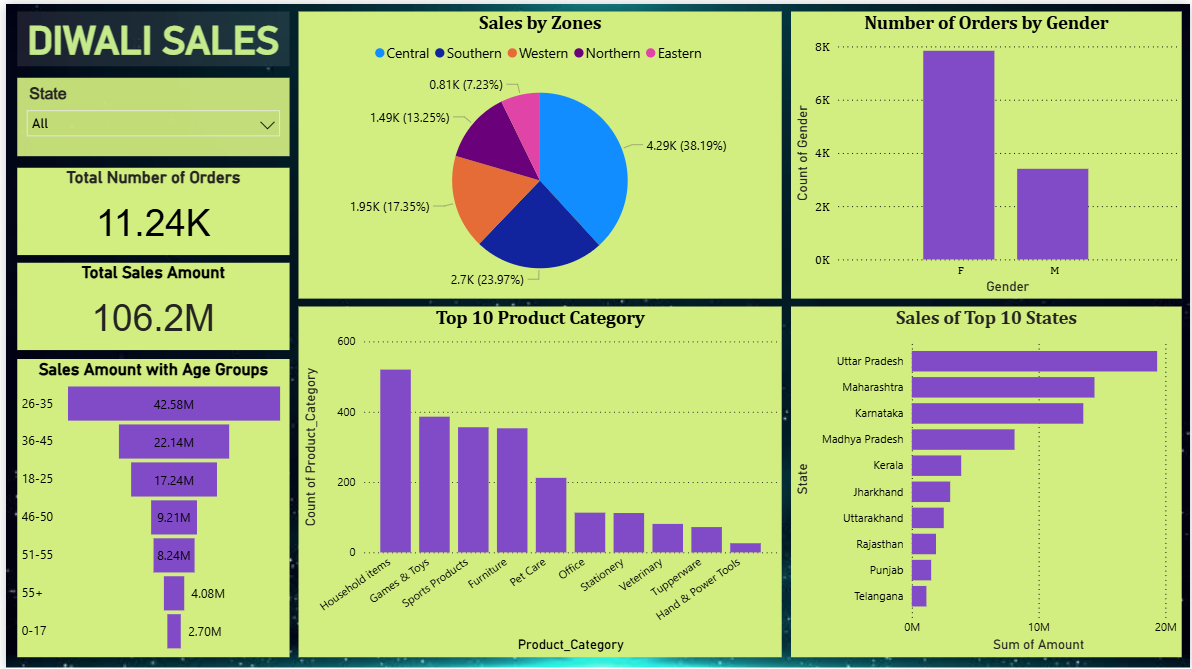

This screenshot's page, from the dashboard's own definition file:
{"tool":"powerbi","page":{"name":"Page 1","canvas":[1280,720],"ordinal":0},"visuals":[{"type":"slicer","fields":{"Values":["Diwali_Sales_Data.State"]},"box":[12.1,79.6,294.4,84.5],"z":0},{"type":"card","title":"Total Sales Amount","fields":{"Values":["Sum(Diwali_Sales_Data.Amount)"]},"box":[12.1,279.9,294.4,94.1],"z":1000},{"type":"card","title":"Total Number of Orders","fields":{"Values":["CountNonNull(Diwali_Sales_Data.Orders)"]},"box":[12.1,177.3,294.4,94.1],"z":2000},{"type":"pieChart","title":"Sales by Zones","fields":{"Category":["Diwali_Sales_Data.Zone"],"Y":["CountNonNull(Diwali_Sales_Data.Zone)"]},"box":[316.1,8.4,522.4,310.1],"z":3000},{"type":"columnChart","title":"Number of Orders by Gender","fields":{"Category":["Diwali_Sales_Data.Gender"],"Y":["CountNonNull(Diwali_Sales_Data.Gender)"]},"box":[848.1,8.4,422.3,310.1],"z":4000},{"type":"funnel","title":"Sales Amount with Age Groups","fields":{"Category":["Diwali_Sales_Data.Age Group"],"Y":["Sum(Diwali_Sales_Data.Amount)"]},"box":[12.1,383.6,294.4,322.1],"z":5000},{"type":"columnChart","title":"Top 10 Product Category","fields":{"Category":["Diwali_Sales_Data.Product_Category"],"Y":["CountNonNull(Diwali_Sales_Data.Product_Category)"]},"box":[316.1,326.9,522.4,378.8],"z":6000},{"type":"barChart","title":"Sales of Top 10 States","fields":{"Category":["Diwali_Sales_Data.State"],"Y":["Sum(Diwali_Sales_Data.Amount)"]},"box":[848,327,422,379],"z":7000},{"type":"textbox","title":"DIWALI SALES","box":[12.1,8.4,294.4,59.1],"z":7001}]}

Visuals, with their boxes in screenshot pixels (x1, y1, x2, y2), scaled from the page's 1280x720 canvas onto the 1192x669 screenshot:
slicer - Diwali_Sales_Data.State: 11,74,285,152
"Total Sales Amount" card: 11,260,285,348
"Total Number of Orders" card: 11,165,285,252
"Sales by Zones" pieChart: 294,8,781,296
"Number of Orders by Gender" columnChart: 790,8,1183,296
"Sales Amount with Age Groups" funnel: 11,356,285,656
"Top 10 Product Category" columnChart: 294,304,781,656
"Sales of Top 10 States" barChart: 790,304,1183,656
"DIWALI SALES" textbox: 11,8,285,63
